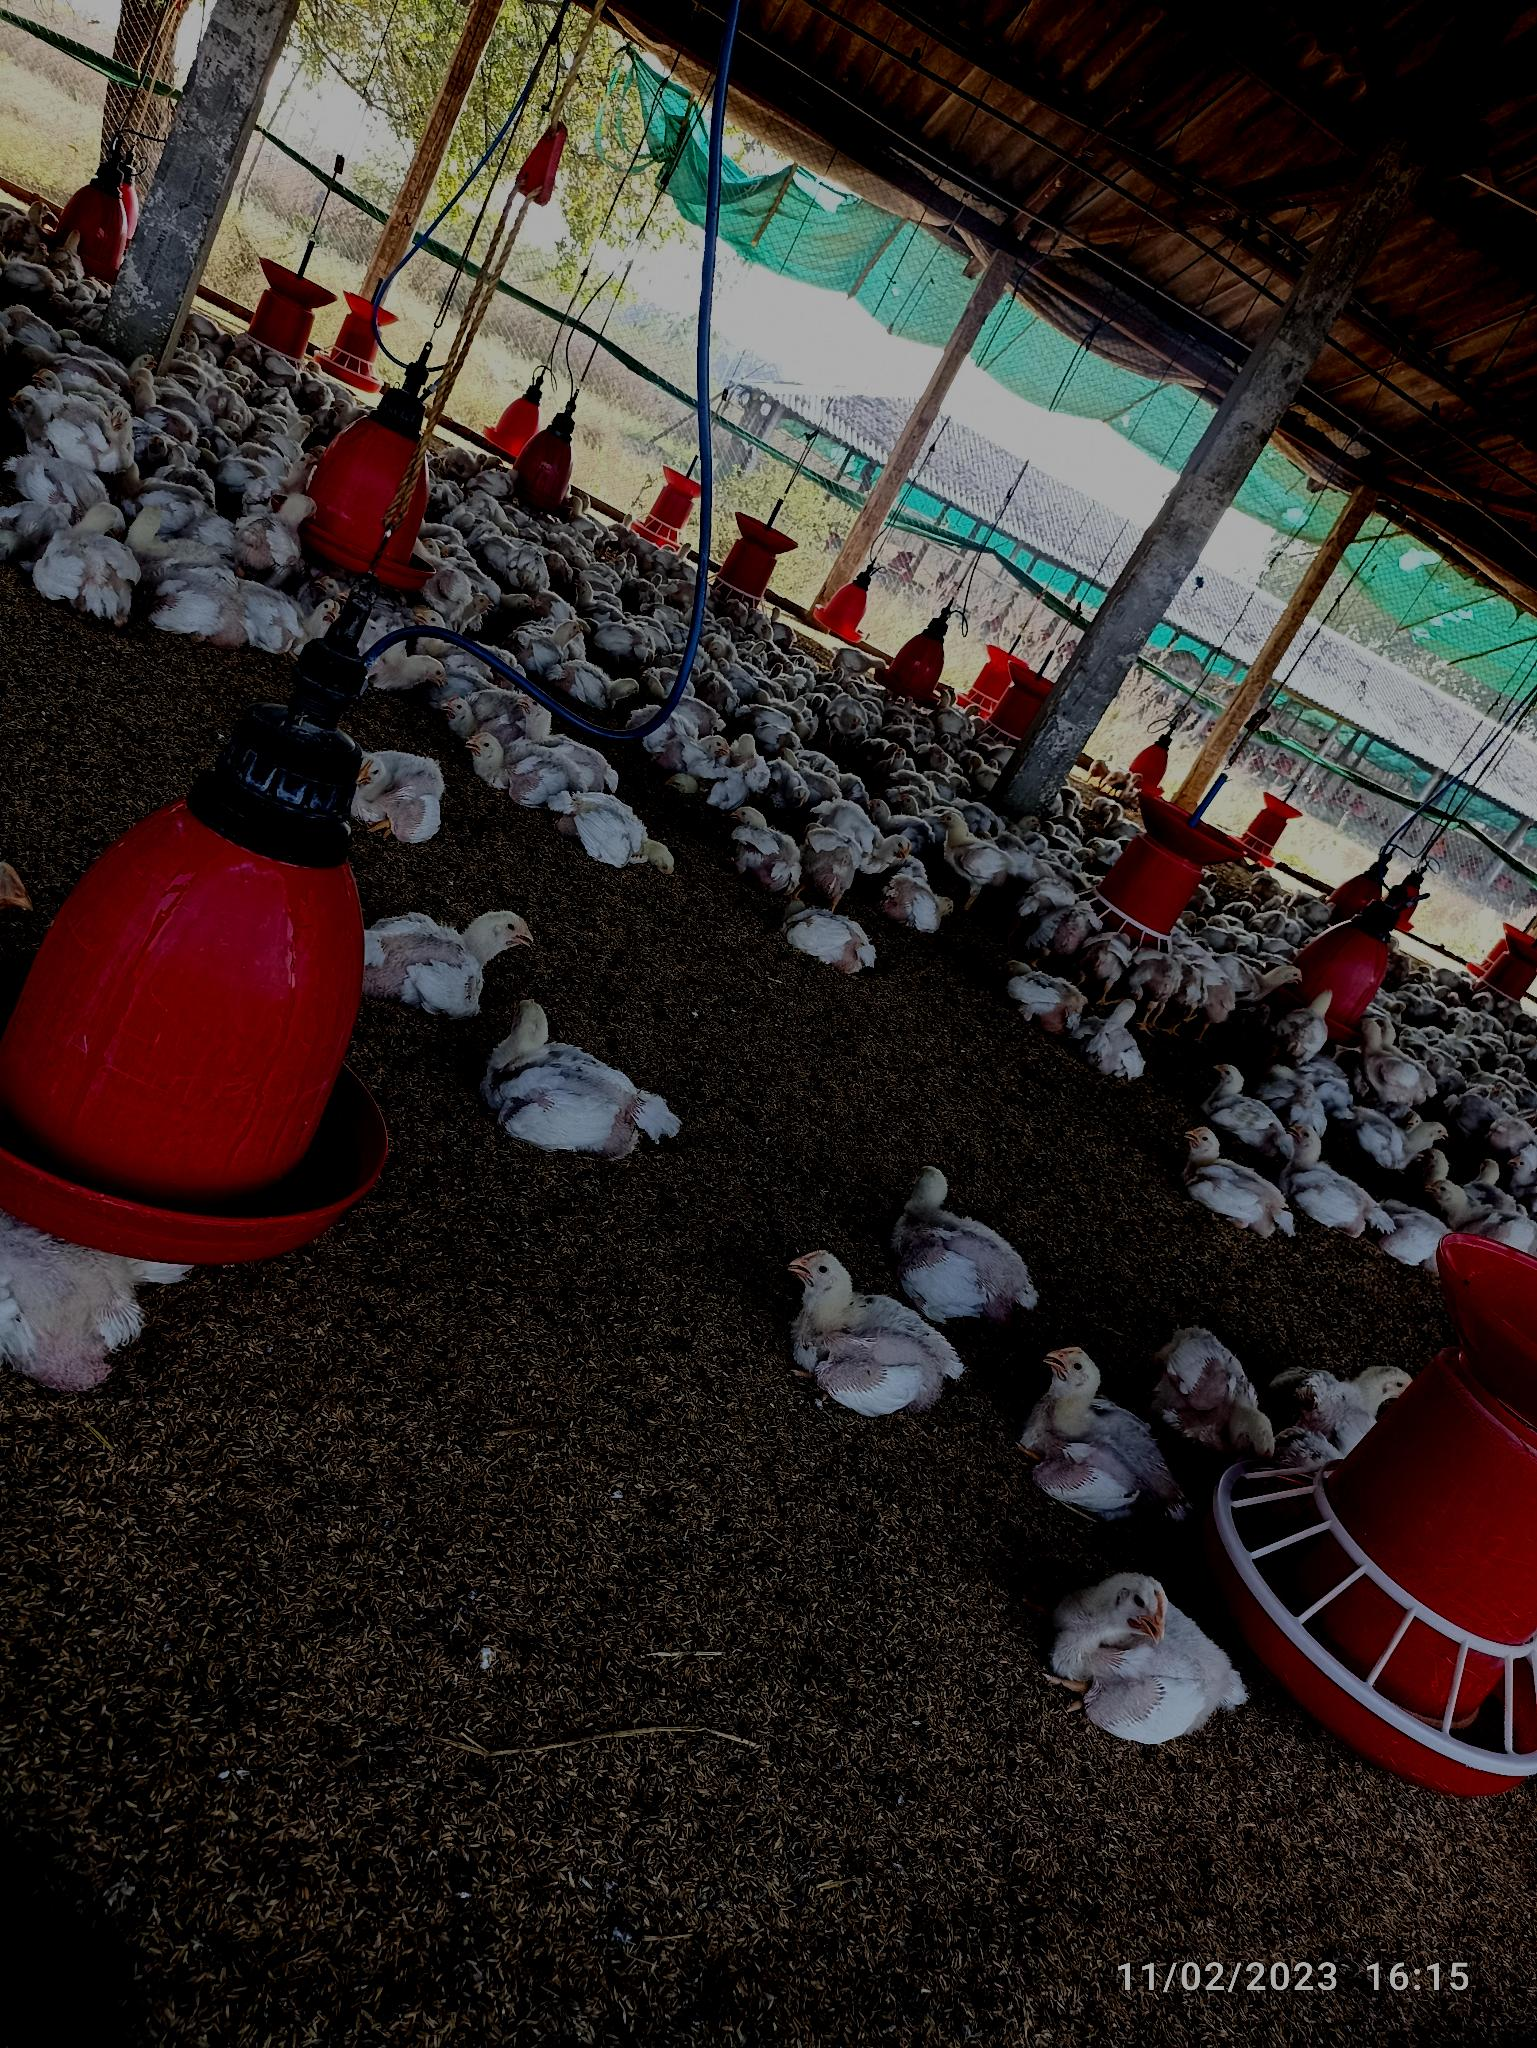Pollos: (1037, 1570, 1250, 1745), (785, 1246, 969, 1415), (488, 991, 681, 1151), (886, 1159, 1040, 1315), (1030, 1340, 1162, 1512), (1164, 1323, 1290, 1465), (370, 909, 530, 1004), (44, 504, 145, 621), (1183, 1125, 1292, 1235), (551, 791, 675, 876), (1292, 1360, 1418, 1443), (1287, 1118, 1371, 1227), (467, 733, 609, 796), (362, 750, 446, 839), (781, 904, 882, 976), (935, 805, 1025, 883), (819, 800, 920, 868), (1004, 954, 1085, 1034), (727, 804, 798, 888), (247, 575, 337, 634), (1424, 1173, 1527, 1223), (547, 660, 646, 712), (1209, 1059, 1279, 1126), (882, 871, 954, 931), (1095, 999, 1145, 1085), (1271, 991, 1334, 1057), (439, 696, 512, 726)
